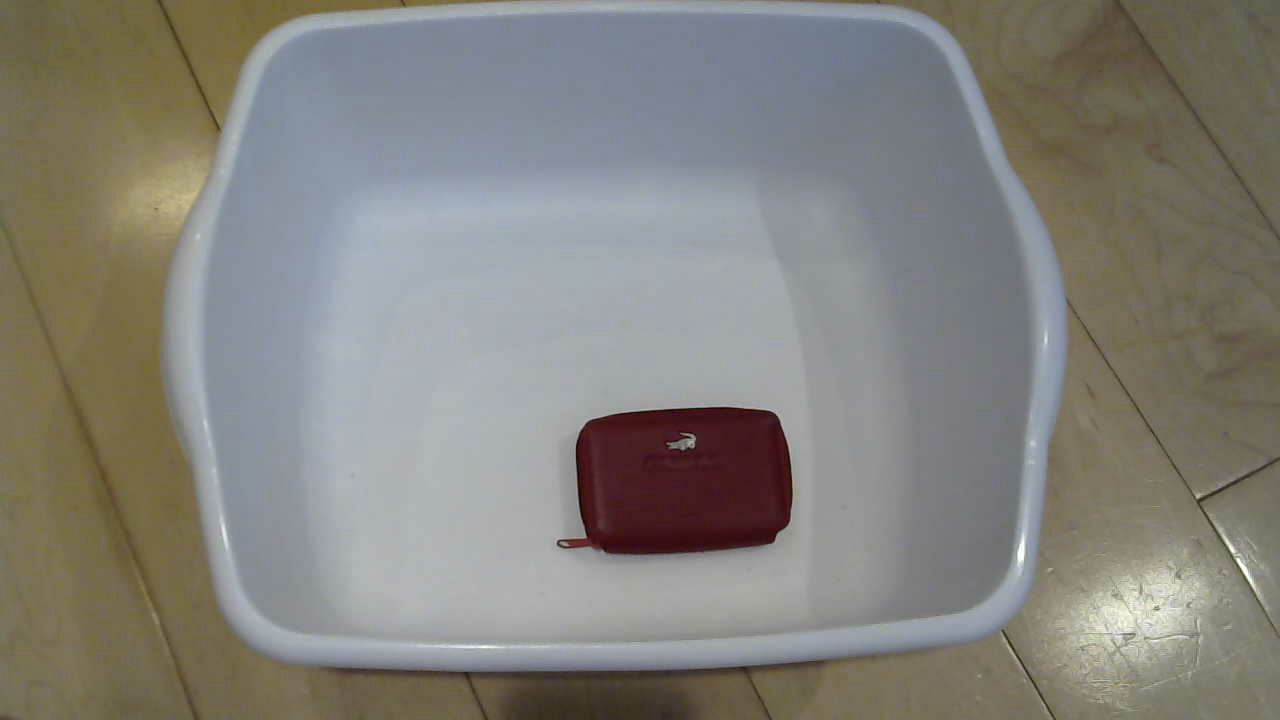wallet: (576, 396, 821, 565)
